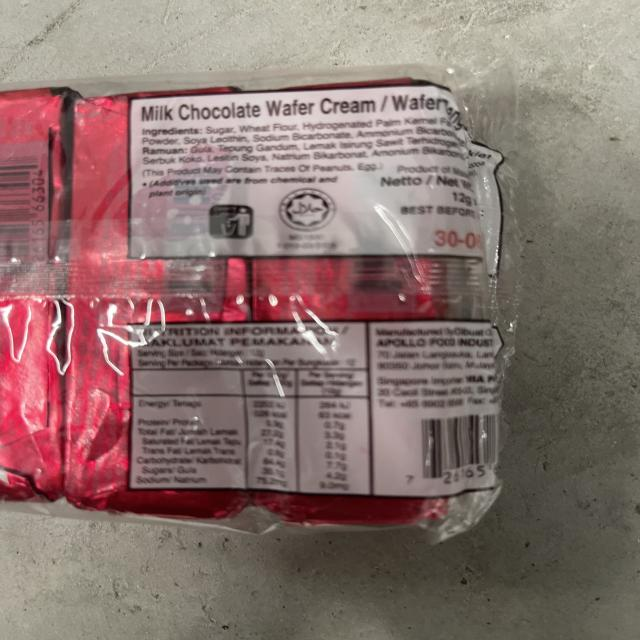object_name: (0, 84, 506, 526)
